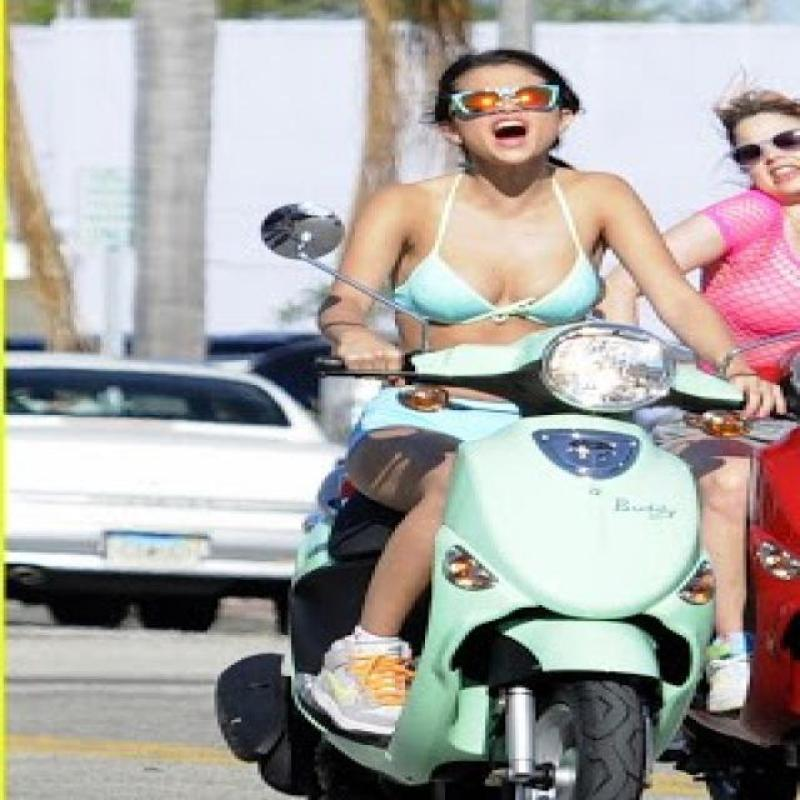nohelmet: (420, 36, 579, 174)
